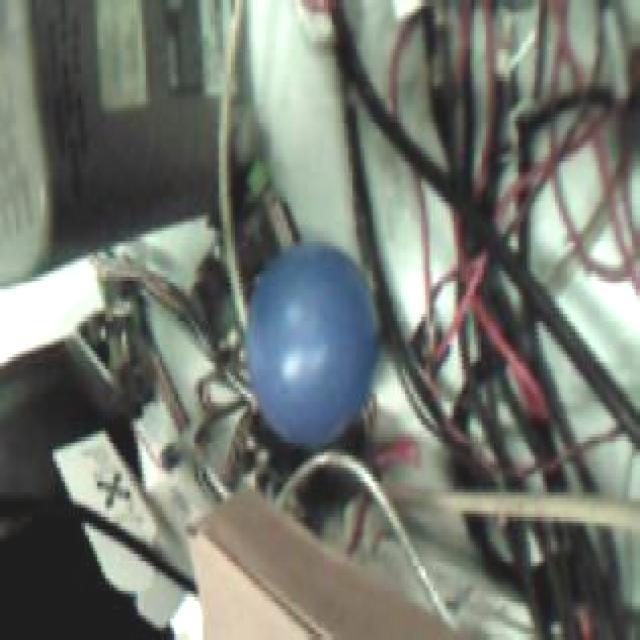BallPurple: (247, 244, 376, 441)
